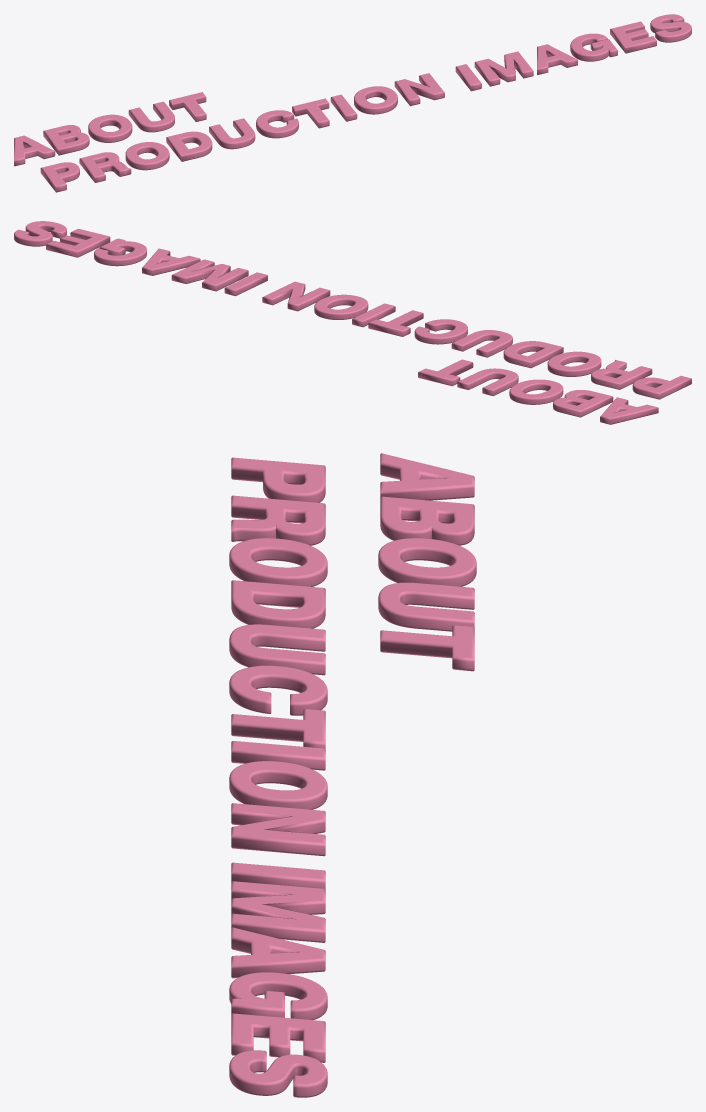
The model's file is panel texts.fbx.
The picture shows the model from 3 angles, top to bottom: view 1: azimuth 30°, elevation 25°; view 2: azimuth 150°, elevation 25°; view 3: azimuth 270°, elevation 25°; orthographic projection. The views are drawn at different scales.
Parts seen in each view (by area): view 1: PRODUCTION IMAGES, ABOUT; view 2: PRODUCTION IMAGES, ABOUT; view 3: PRODUCTION IMAGES, ABOUT.
Part boxes in pixels (x1=…): PRODUCTION IMAGES: x1=40, y1=14, x2=691, y2=192; ABOUT: x1=14, y1=92, x2=206, y2=166; PRODUCTION IMAGES: x1=14, y1=221, x2=691, y2=399; ABOUT: x1=418, y1=359, x2=658, y2=424; PRODUCTION IMAGES: x1=229, y1=457, x2=327, y2=1097; ABOUT: x1=378, y1=453, x2=476, y2=671.
Size of the model in its own units: 1016 by 10 by 168.
